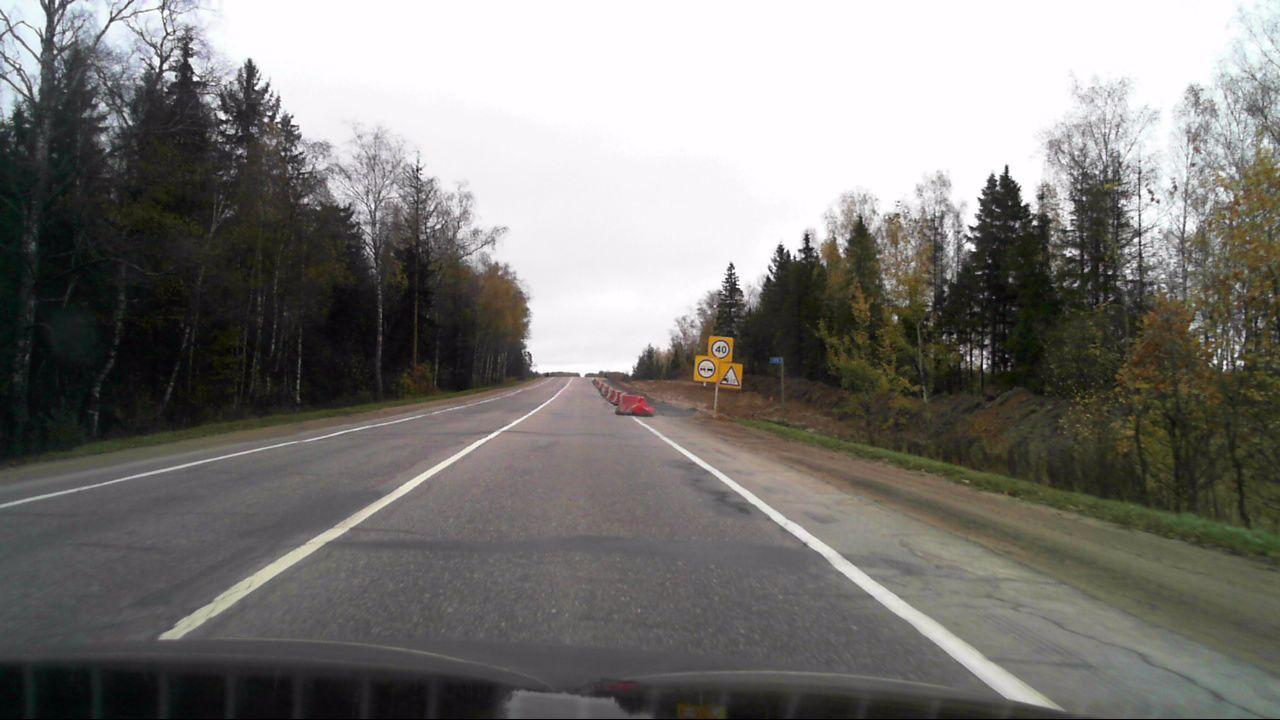1_18: (719, 365, 742, 387)
3_20: (696, 358, 716, 378)
3_24: (711, 339, 730, 359)
